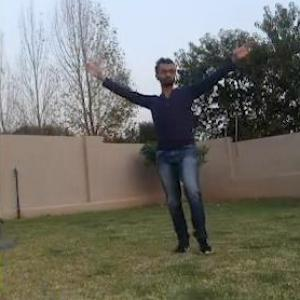takeoff: (83, 25, 263, 265)
